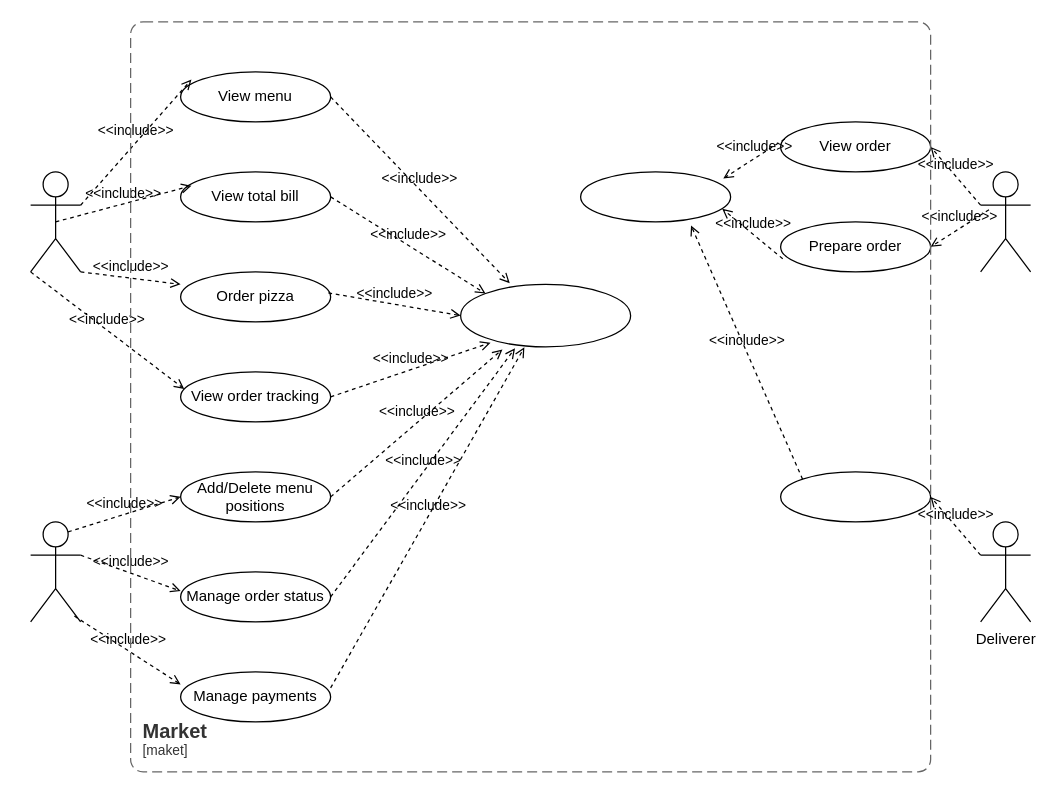
The diagram is 1058 pixels wide and 794 high, and some of its shapes have lost their labels. The box of each missing label's shape, as (x1, y1, x2, y2) in pixels:
Admin: (29, 521, 81, 622)
Chef: (979, 171, 1031, 272)
Customer: (29, 171, 81, 272)
Log in: (459, 283, 631, 347)
Pizza Delivery: (779, 471, 931, 522)
Receive order: (579, 171, 731, 222)
